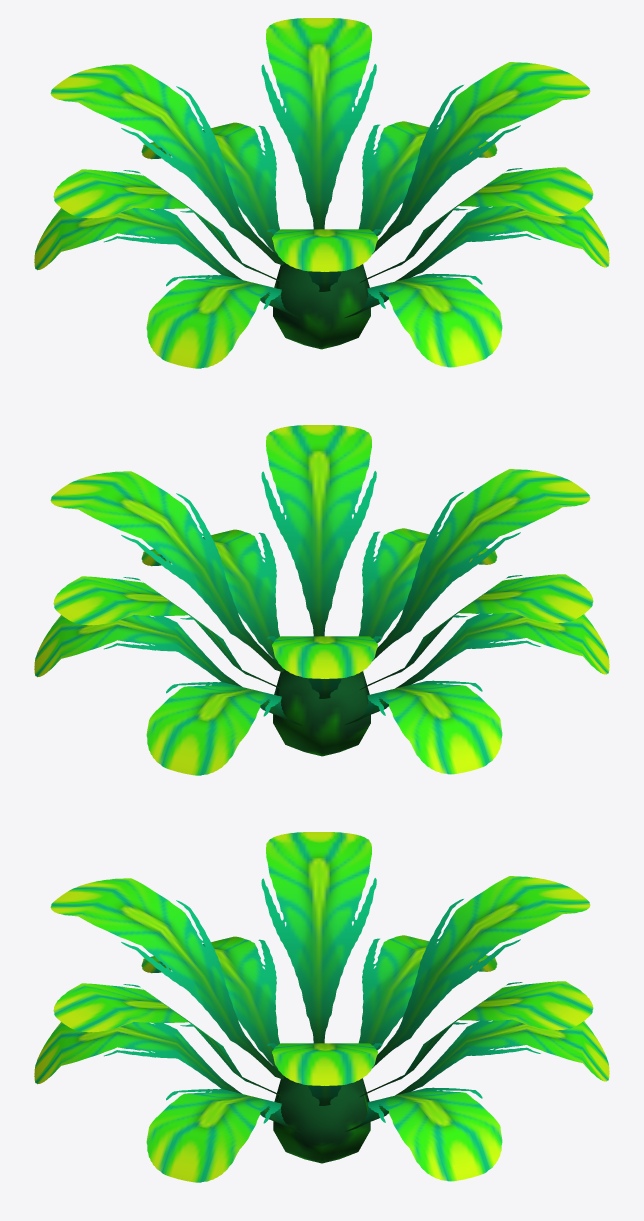
The model's file is Green_Bush_01a.FBX.
3 renders of one model, top to bottom at view 1: azimuth 30°, elevation 25°; view 2: azimuth 150°, elevation 25°; view 3: azimuth 270°, elevation 25°, orthographic.
Visible parts, largest first — view 1: Green_Bush_01a; view 2: Green_Bush_01a; view 3: Green_Bush_01a.
Part boxes in pixels (x1,y1,x2,y2): Green_Bush_01a: [34, 18, 609, 368]; Green_Bush_01a: [34, 425, 609, 775]; Green_Bush_01a: [34, 832, 609, 1182].
Size of the model in its own units: 118 by 42.32 by 115.
